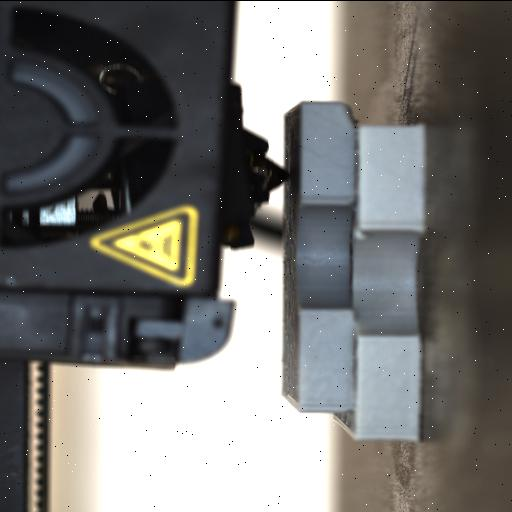layer_shift: (340, 102, 366, 440)
